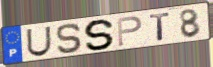8: (179, 8, 203, 39)
P: (116, 15, 144, 48)
S: (83, 18, 117, 51), (55, 22, 85, 55)
T: (148, 11, 172, 42)
U: (25, 25, 52, 58)
